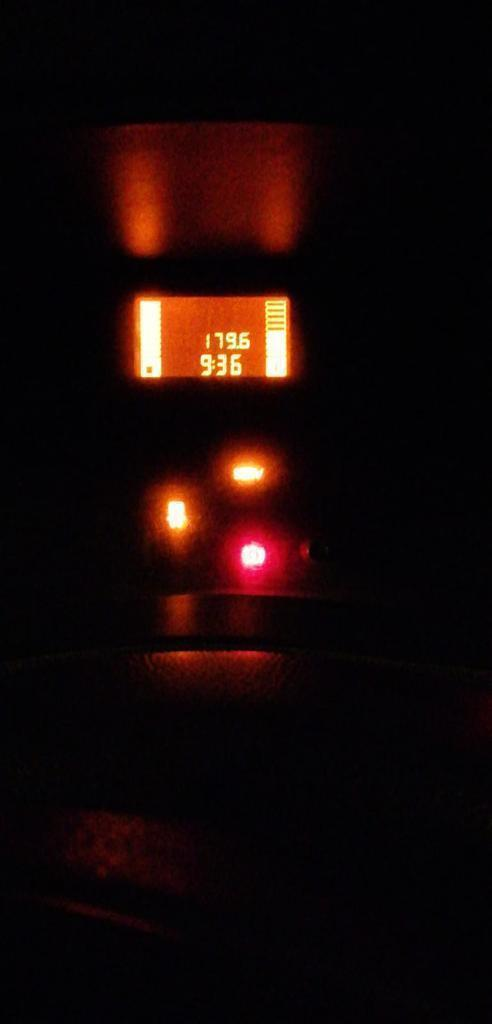,: (236, 344, 239, 349)
1: (205, 332, 210, 349)
3: (215, 353, 227, 376)
6: (229, 353, 242, 376), (238, 331, 250, 349)
7: (213, 331, 223, 350)
9: (199, 353, 212, 376), (225, 331, 236, 349)
X: (211, 359, 215, 370)
odometer: (131, 293, 291, 380)
